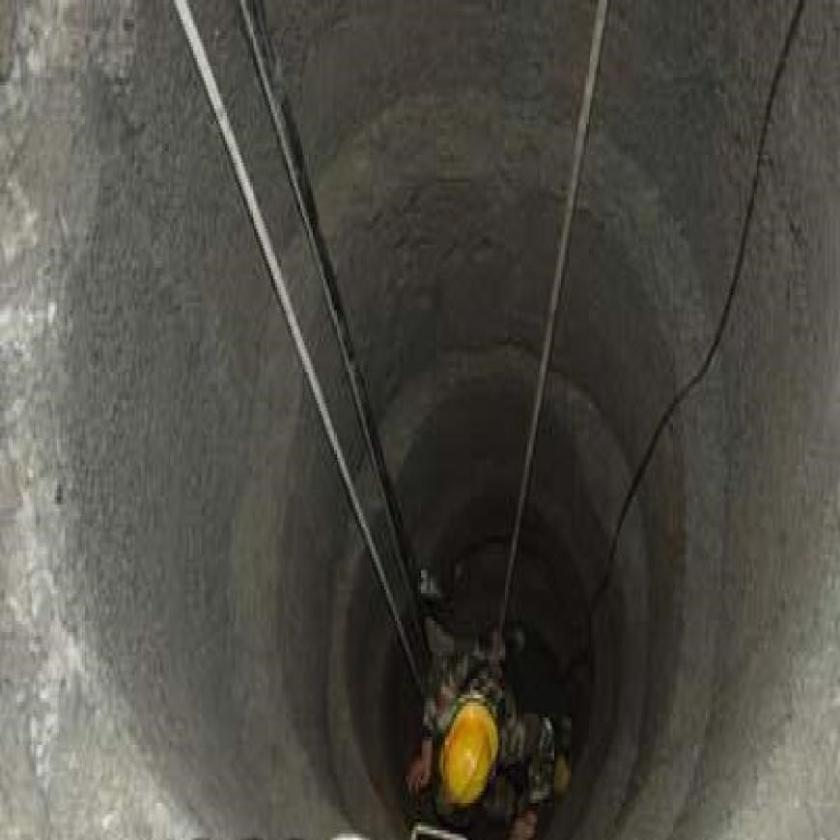Con_casco: (436, 697, 501, 814)
